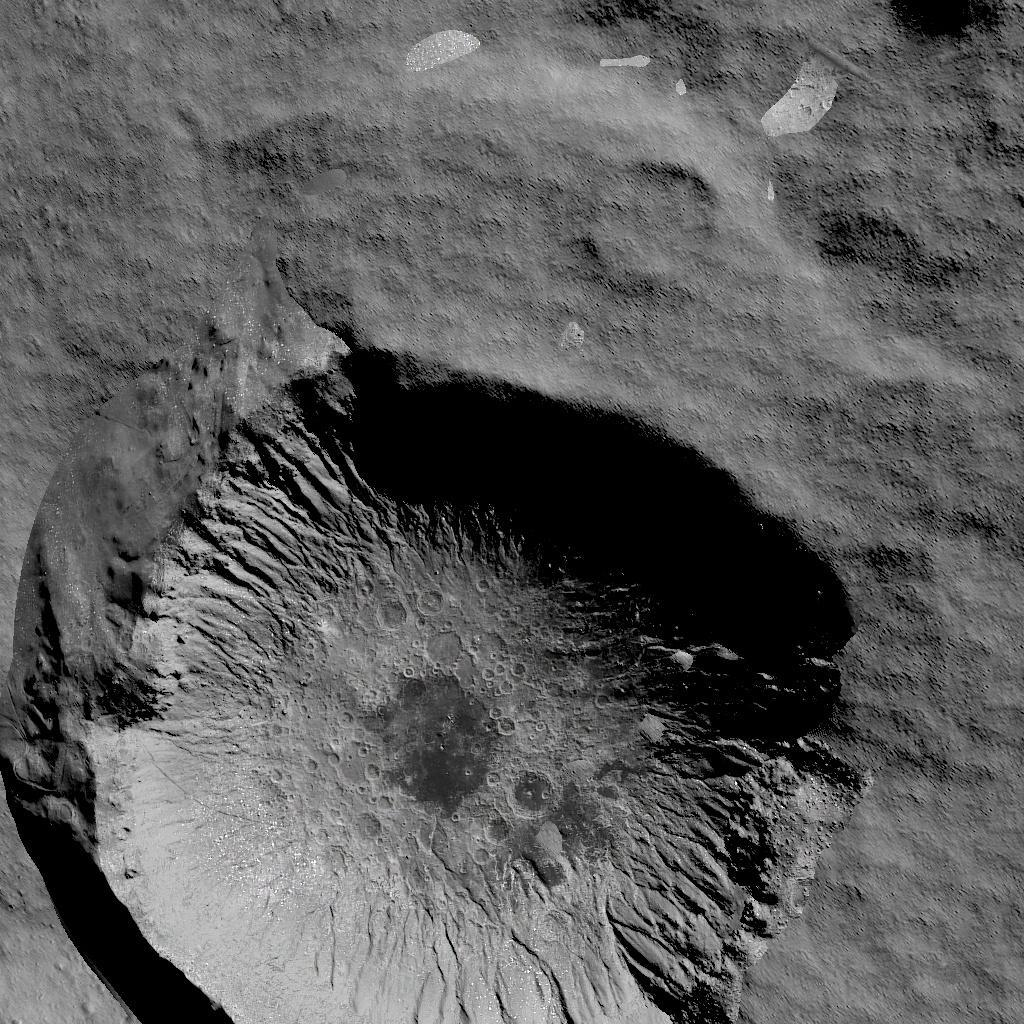Crater: (0, 288, 921, 1024)
Plan surface: (9, 2, 1024, 258)
